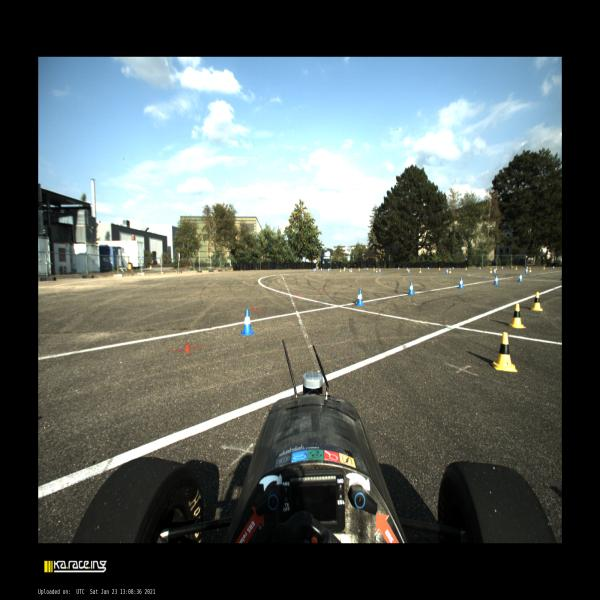blue_cone: (239, 309, 256, 335), (356, 290, 364, 306), (408, 282, 415, 295), (458, 278, 464, 288), (494, 275, 499, 285), (518, 273, 523, 282), (525, 268, 528, 273), (494, 268, 496, 274), (446, 268, 448, 274), (408, 269, 410, 273), (379, 269, 381, 273), (479, 266, 481, 270), (452, 266, 454, 270), (349, 268, 351, 272), (313, 268, 315, 272), (553, 266, 555, 269), (502, 266, 503, 270), (366, 268, 368, 270), (328, 268, 329, 272), (321, 267, 322, 271), (428, 267, 429, 270), (398, 267, 399, 270), (315, 268, 316, 271), (527, 266, 528, 269), (330, 268, 331, 270)
yellow_cone: (491, 332, 518, 372), (508, 304, 526, 328), (531, 292, 542, 311), (419, 268, 422, 273), (530, 267, 532, 272), (490, 268, 492, 273), (449, 268, 451, 273), (465, 266, 467, 270), (376, 268, 378, 272), (373, 267, 375, 271), (358, 267, 360, 271), (343, 267, 345, 271), (543, 266, 545, 269), (516, 266, 517, 270), (496, 266, 497, 270), (351, 268, 352, 272), (439, 267, 440, 270), (340, 268, 341, 271), (407, 268, 408, 270)
